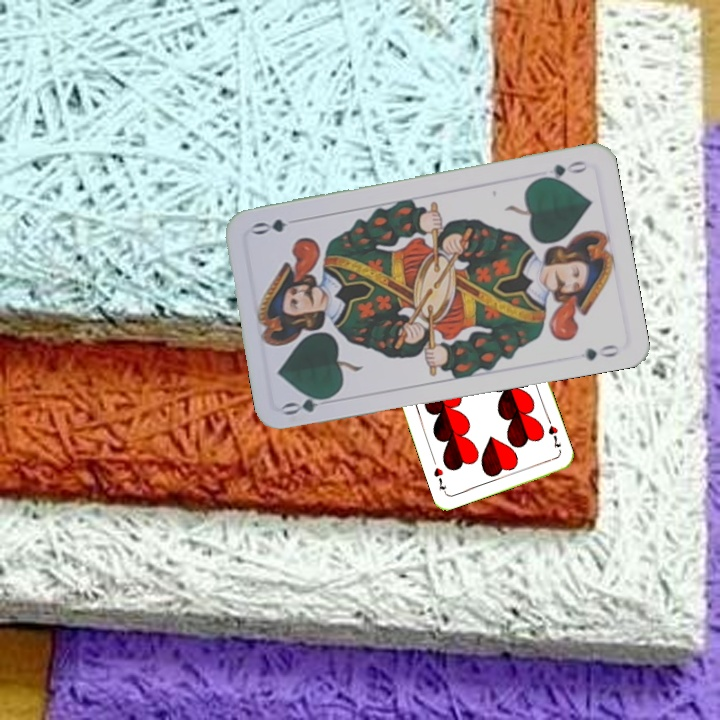GO: (279, 390, 338, 418), (533, 156, 591, 183)
H7: (544, 415, 564, 451)
